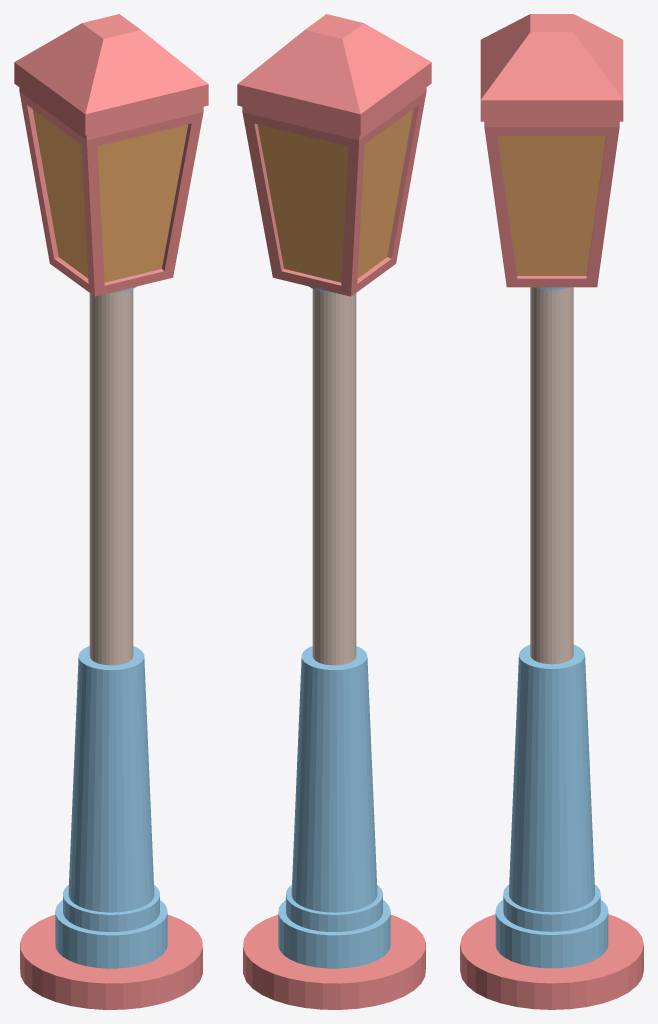
Rendered from lamp.fbx.
3 renders of one model, left to right at view 1: azimuth 30°, elevation 25°; view 2: azimuth 150°, elevation 25°; view 3: azimuth 270°, elevation 25°, orthographic.
Parts seen in each view (by area): view 1: Cylinder.003; view 2: Cylinder.003; view 3: Cylinder.003.
Boxes of the visible parts, x1=… form: Cylinder.003: x1=14, y1=14, x2=208, y2=1009; Cylinder.003: x1=237, y1=14, x2=431, y2=1009; Cylinder.003: x1=460, y1=14, x2=643, y2=1009.
Size of the model in its own units: 0.808 by 4.6 by 0.808.
Materials: 1 (1 with a texture image).
